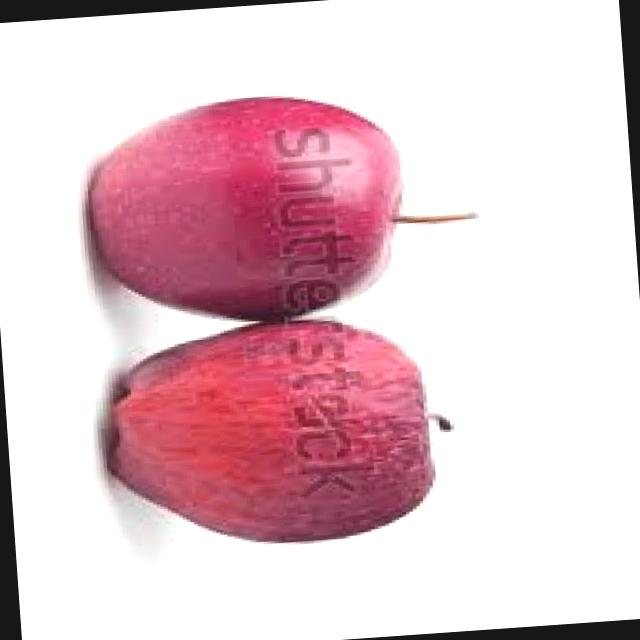Red Apple: (98, 309, 430, 553), (84, 81, 413, 324)
